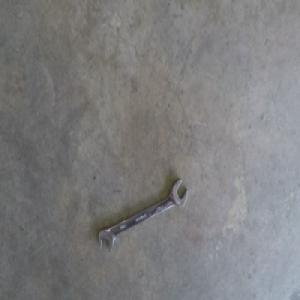Wrench: (98, 179, 188, 252)
